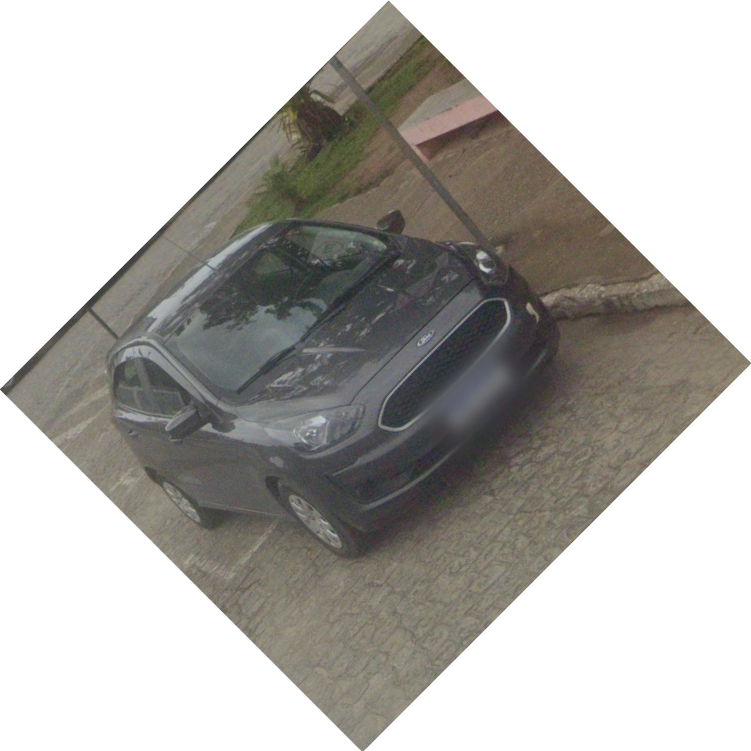car: (104, 210, 562, 560)
